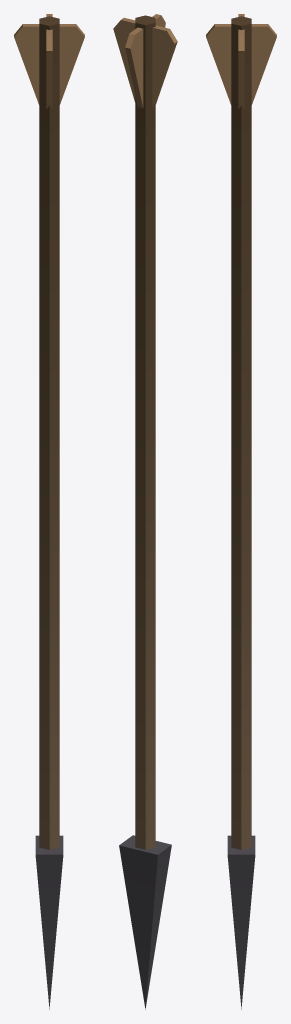
The model's file is flecha.glb.
The picture shows the model from 3 angles, left to right: view 1: azimuth 90°, elevation 25°; view 2: azimuth 150°, elevation 25°; view 3: azimuth 270°, elevation 25°; orthographic projection.
Visible parts, largest first — view 1: flecha; view 2: flecha; view 3: flecha.
Boxes of the visible parts, x1,y1,x2,y2 form: flecha: (14, 14, 84, 1009); flecha: (113, 14, 177, 1009); flecha: (206, 14, 276, 1009).
Size of the model in its own units: 0.0455 by 0.7 by 0.0455.
1 material, 1 textured.
